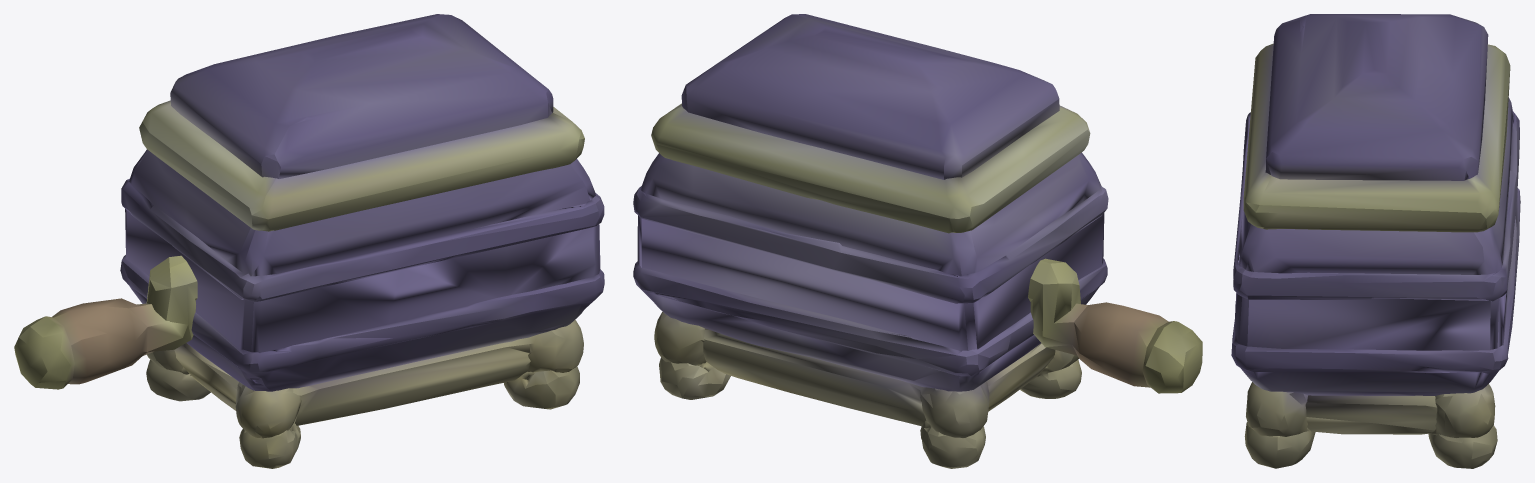
Rendered from MusicBox01.fbx.
3 renders of one model, left to right at view 1: azimuth 30°, elevation 25°; view 2: azimuth 150°, elevation 25°; view 3: azimuth 270°, elevation 25°, orthographic.
Parts seen in each view (by area): view 1: MusicBoxBody01, MusicBoxCover01, MusicBoxHandle01; view 2: MusicBoxBody01, MusicBoxCover01, MusicBoxHandle01; view 3: MusicBoxBody01, MusicBoxCover01.
Part boxes in pixels (<box>): MusicBoxBody01: <box>120,149,604,468</box>; MusicBoxCover01: <box>139,14,584,231</box>; MusicBoxHandle01: <box>14,255,197,389</box>; MusicBoxBody01: <box>633,152,1108,468</box>; MusicBoxCover01: <box>651,14,1090,233</box>; MusicBoxHandle01: <box>1028,258,1202,393</box>; MusicBoxBody01: <box>1231,97,1520,468</box>; MusicBoxCover01: <box>1243,14,1510,232</box>.
Bounding box in the file's own units: 44.93 × 29.64 × 22.11.
